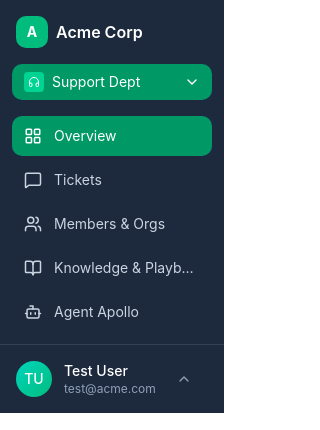
Test case: SupportSidebar › should show department links when dropdown is opened
Click the button "Support Dept" at {"x": 112, "y": 82}, box left=12, top=64, right=212, bottom=100
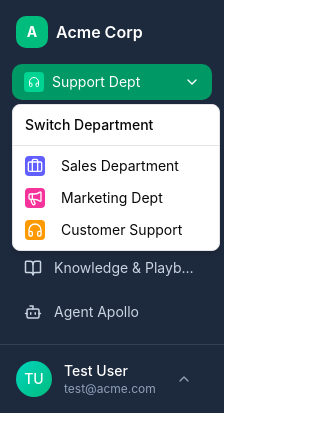
Check: the menu item "Sales Department" is shown, box left=25, top=156, right=179, bottom=176
Check: the menu item "Marketing Dept" is shown, box left=25, top=188, right=163, bottom=208
Check: the menu item "Customer Support" is shown, box left=25, top=220, right=182, bottom=240
